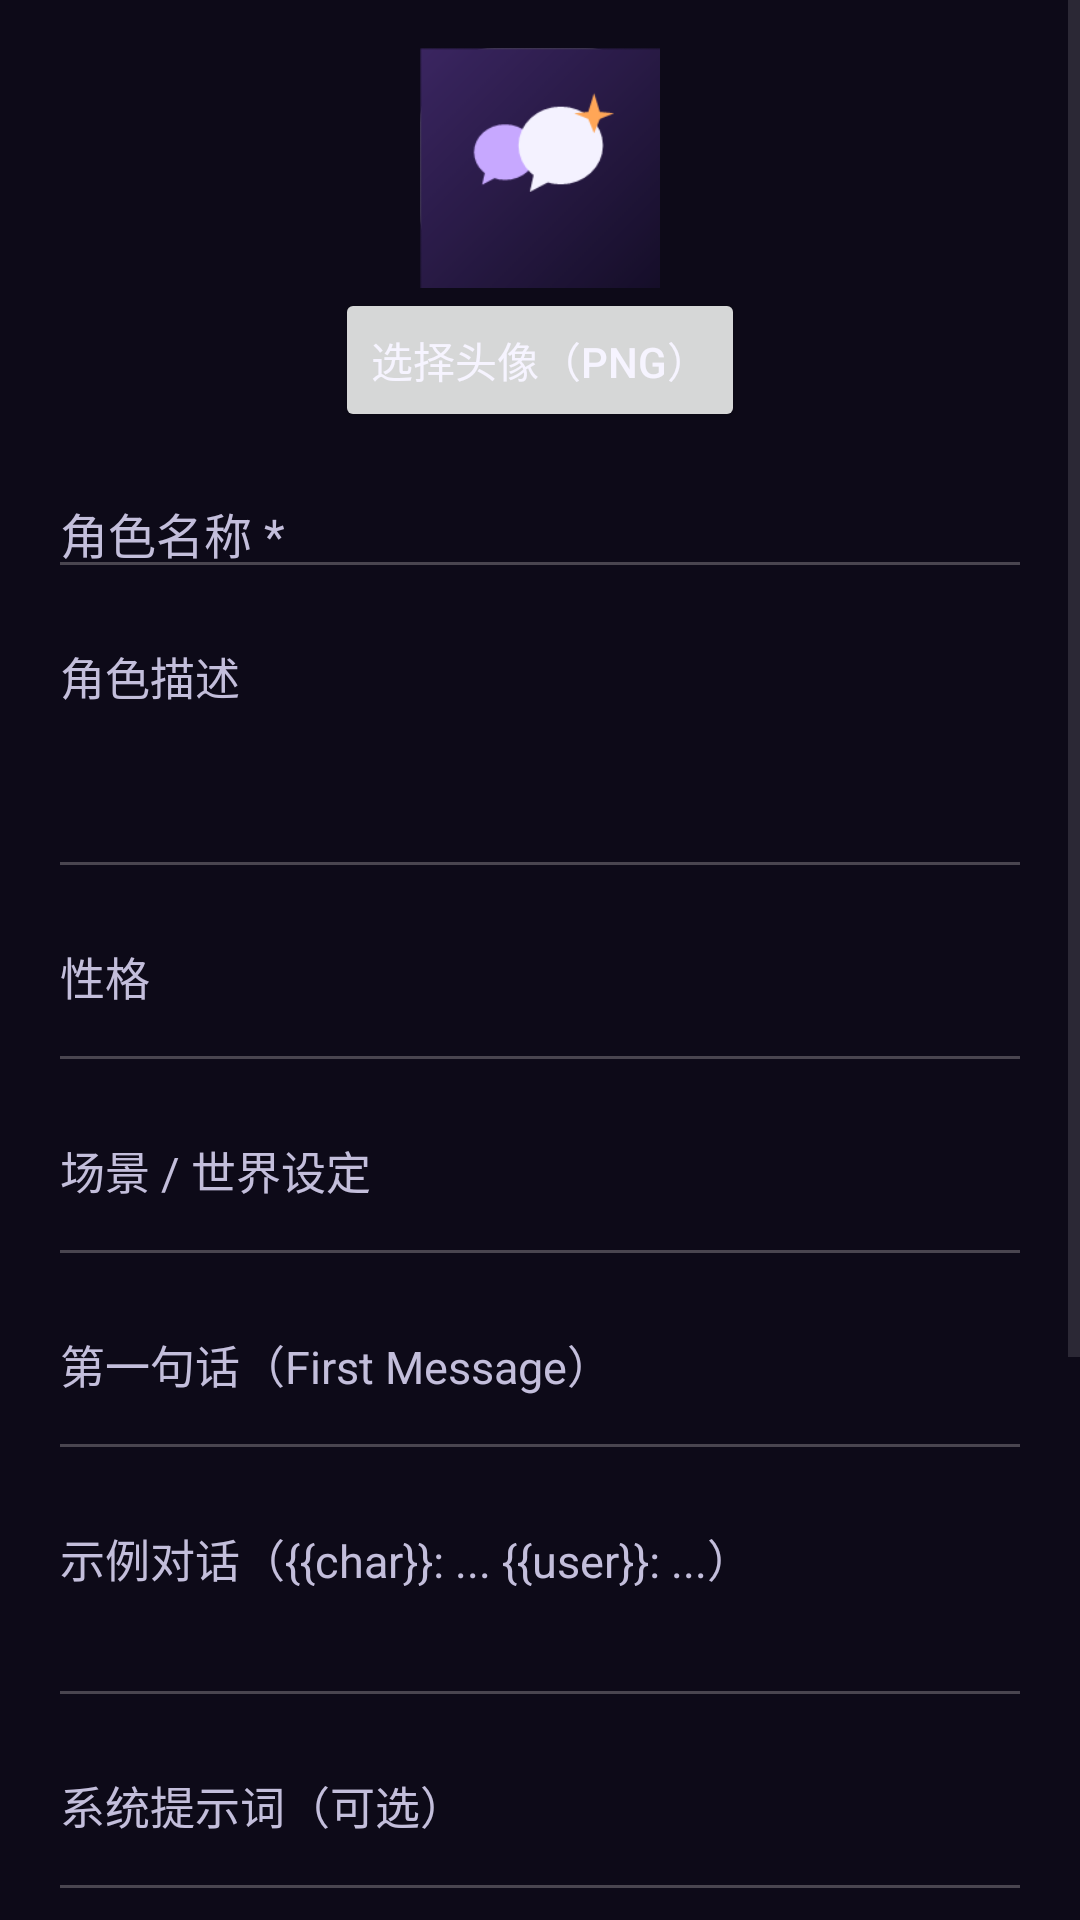

Locate icon controls on the screen. Image size 1080px×1920px, boxes as (x1, y1, x2, y2).
app: (420, 48, 660, 288)
